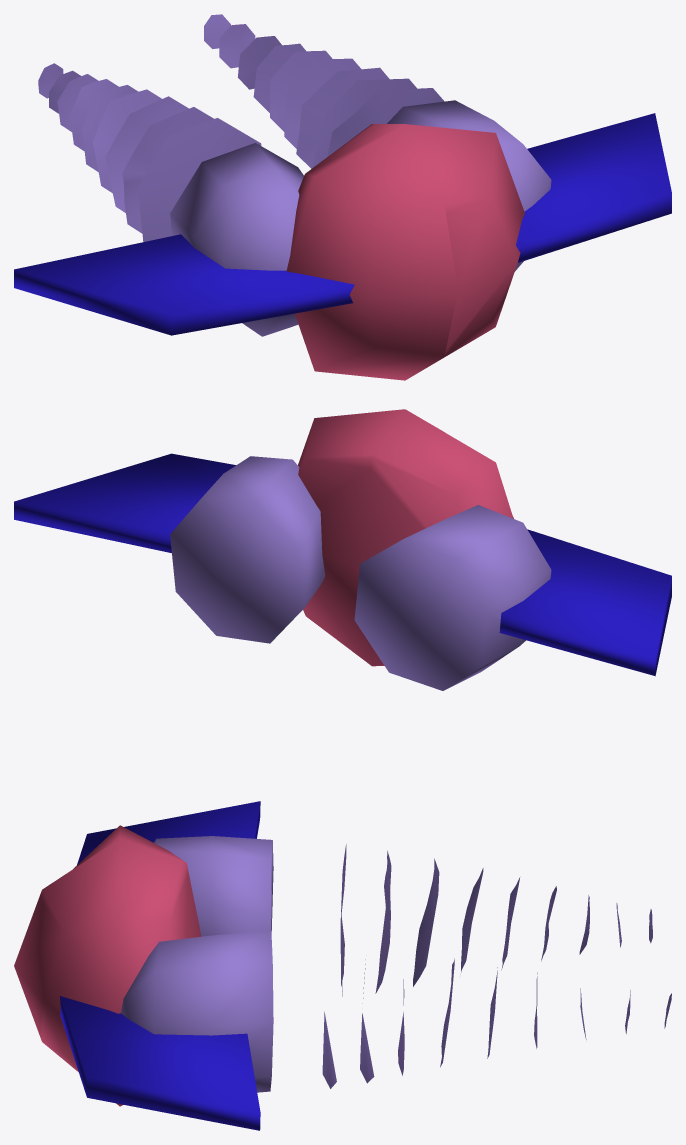
File: ship_19.gltf
3 views of the same model, one above another, from view 1: azimuth 30°, elevation 25°; view 2: azimuth 150°, elevation 25°; view 3: azimuth 270°, elevation 25° (orthographic).
Visible parts, largest first — view 1: gtlf; view 2: gtlf; view 3: gtlf.
Boxes of the visible parts, box(x1,y1,x2,y2) form: gtlf: box(14, 14, 671, 380); gtlf: box(14, 409, 671, 690); gtlf: box(14, 801, 671, 1130).
Bounding box in the file's own units: 2.1 × 0.8035 × 1.88.
